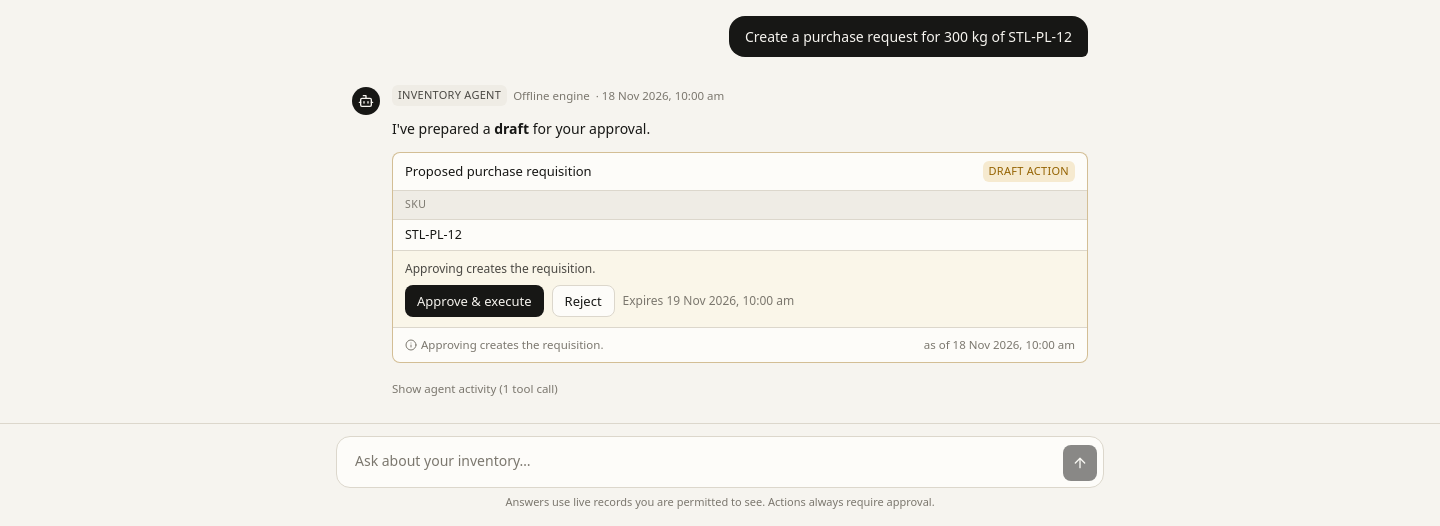
Test: ChatPanel › renders draft cards with provenance and approves the bound action
The width and height of the screenshot is (1440, 526).
Expected: the text "Draft action" is shown, [982, 161, 1075, 182]
Click the button "Approve & execute": (474, 301) [405, 285, 544, 317]
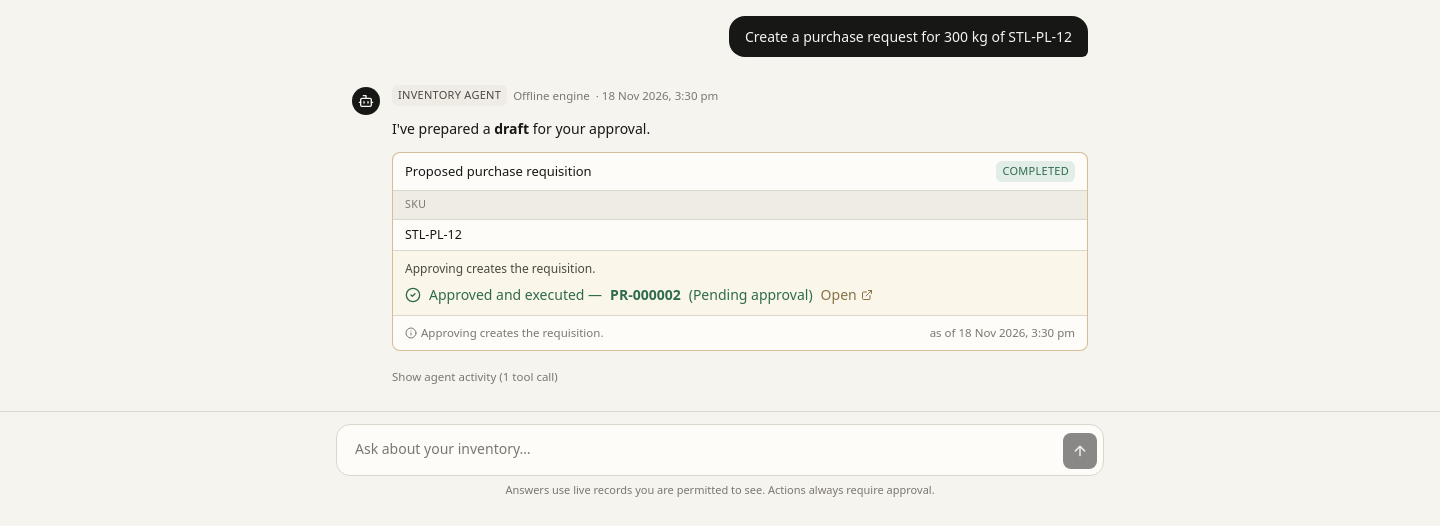
Now the text "Approved and executed — PR-000002 (Pending approval) Open" is shown, box [405, 285, 873, 304]
